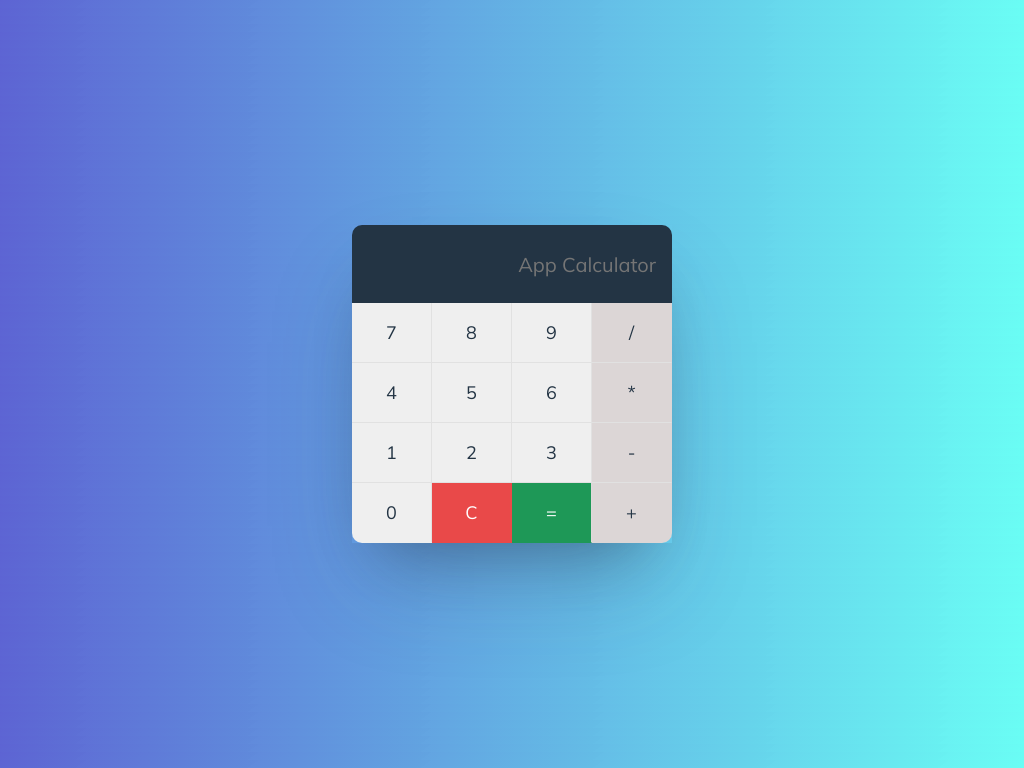
Test: Verificar el comportamiento de los botones › Cuando se hace click en un número debe actualizar el campo resultado
The width and height of the screenshot is (1024, 768).
Click the button "0" at (392, 513), box 352,483 -> 432,543
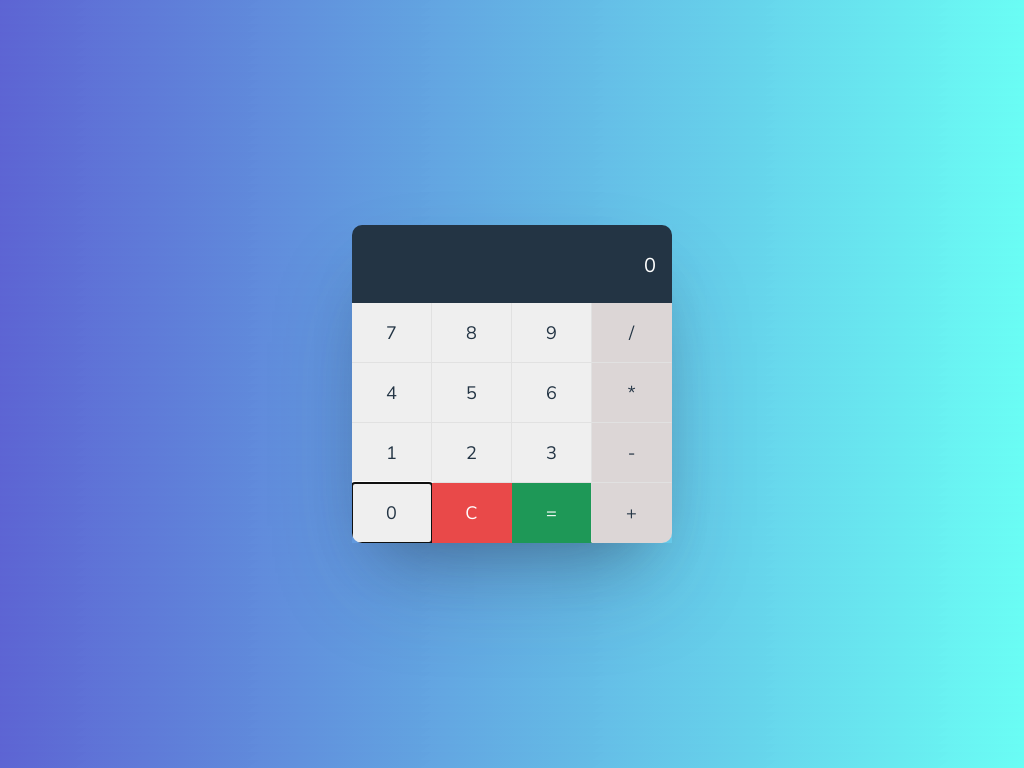
Expected: the field holds "0", 352,225 -> 672,303
